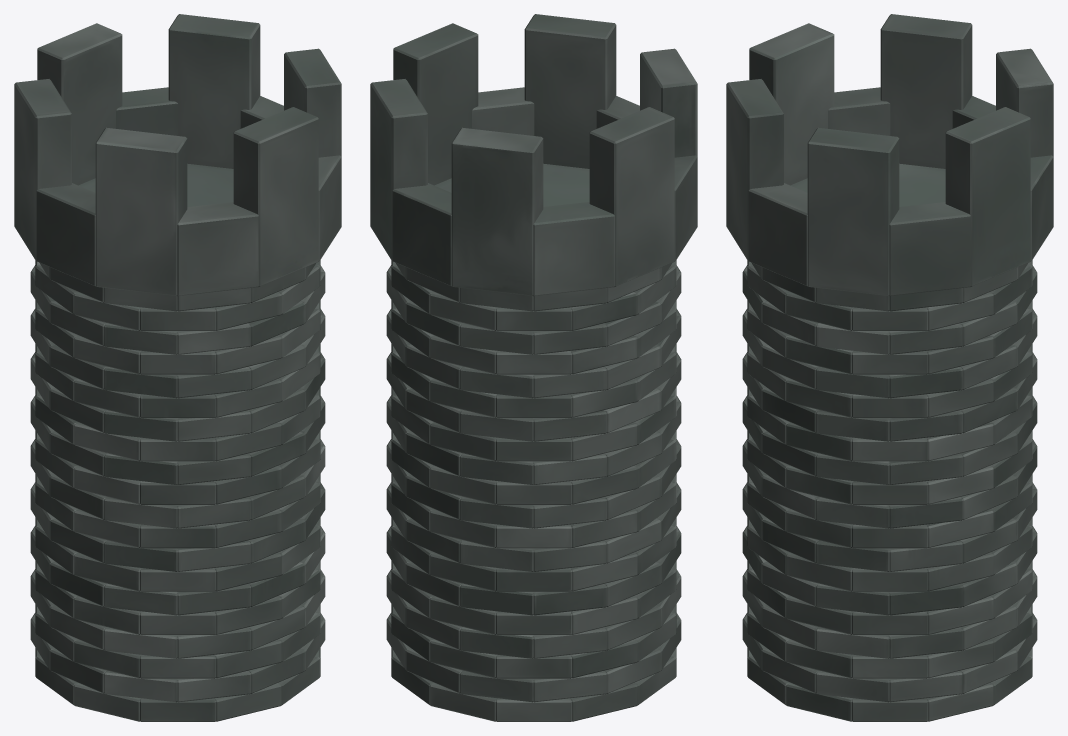
File: Medieval Tower Wall_2.fbx
3 views of the same model, side by side, from view 1: azimuth 30°, elevation 25°; view 2: azimuth 150°, elevation 25°; view 3: azimuth 270°, elevation 25° (orthographic).
Parts seen in each view (by area): view 1: Wall Tower_1; view 2: Wall Tower_1; view 3: Wall Tower_1.
Boxes of the visible parts, x1=… form: Wall Tower_1: x1=14, y1=14, x2=341, y2=721; Wall Tower_1: x1=370, y1=14, x2=697, y2=721; Wall Tower_1: x1=726, y1=14, x2=1053, y2=721.
Bounding box in the file's own units: 330 × 645 × 330.
Materials: 1 (1 with a texture image).
